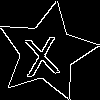X: (21, 27, 61, 77)
